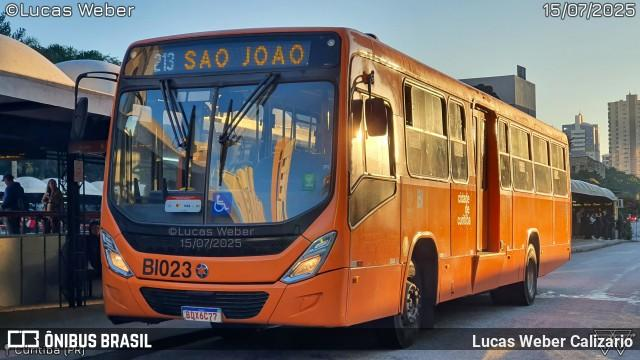SAO JOAO: (180, 41, 310, 72)
